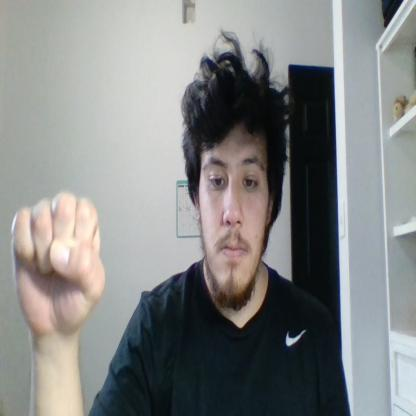S: (11, 190, 105, 334)
